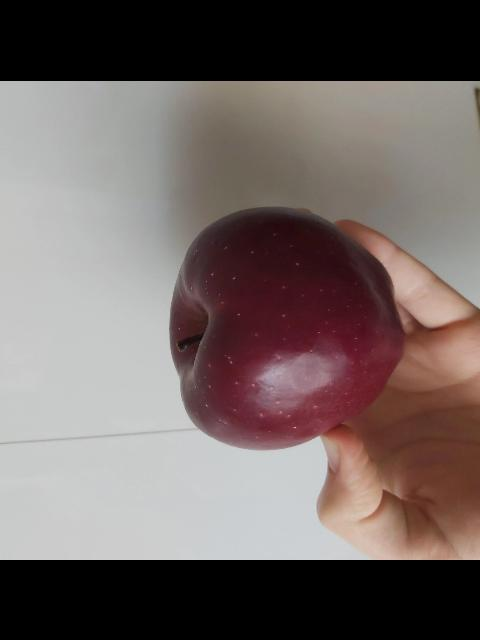Apples: (168, 206, 402, 448)
